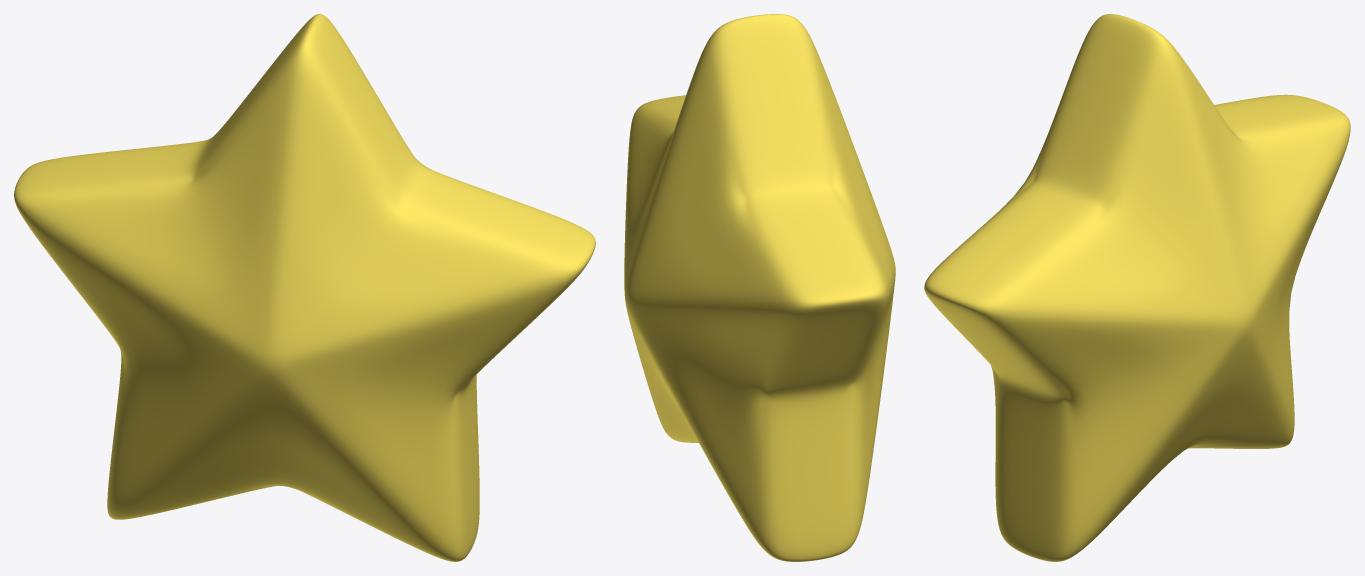
The model's file is 3D_Star.glb.
3 views of the same model, side by side, from view 1: azimuth 30°, elevation 25°; view 2: azimuth 150°, elevation 25°; view 3: azimuth 270°, elevation 25° (orthographic). The views are drawn at different scales.
Visible parts, largest first — view 1: Cylinder; view 2: Cylinder; view 3: Cylinder.
Part boxes in pixels (x1,y1,x2,y2): Cylinder: [14, 14, 595, 561]; Cylinder: [624, 14, 895, 561]; Cylinder: [924, 14, 1350, 561].
Bounding box in the file's own units: 1.5 × 1.76 × 1.39.
